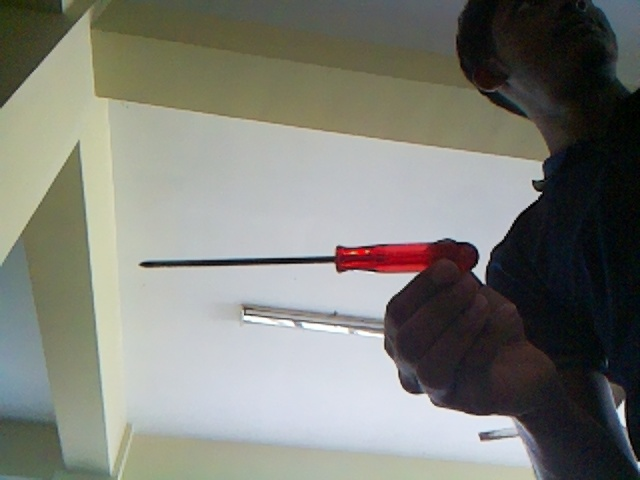redskrew: (137, 243, 488, 287)
